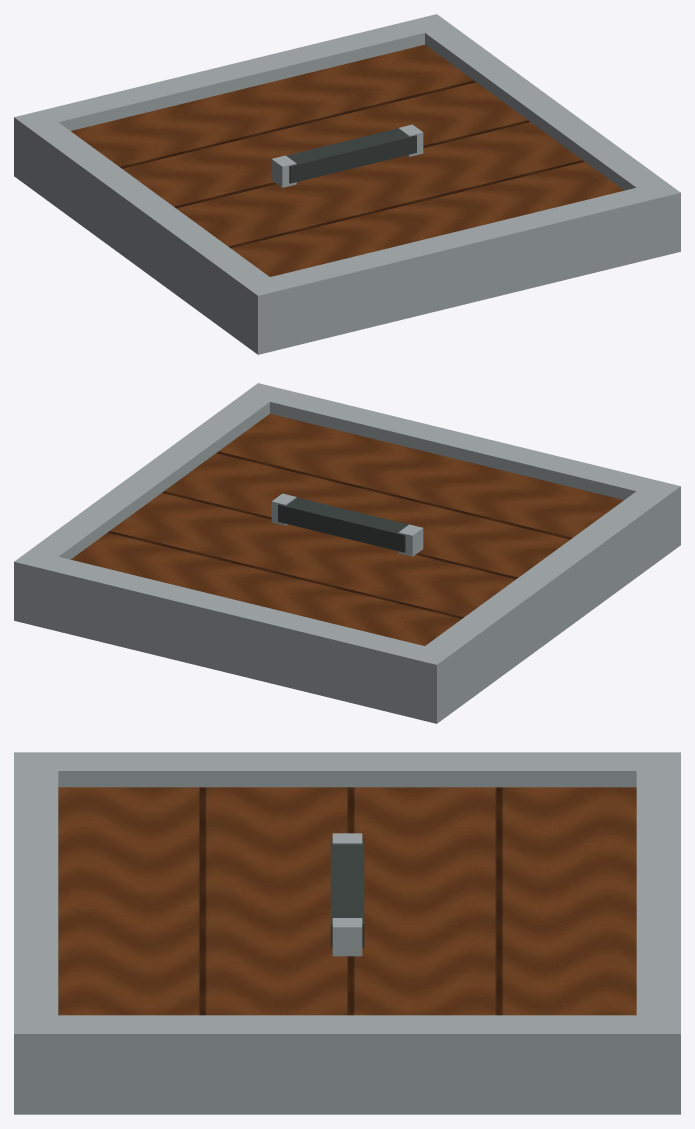
The model's file is rural-scavenging-settlements-cellar-trapdoor-b43ba5ef__26554.glb.
3 views of the same model, one above another, from view 1: azimuth 30°, elevation 25°; view 2: azimuth 150°, elevation 25°; view 3: azimuth 270°, elevation 25° (orthographic). The views are drawn at different scales.
Visible parts, largest first — view 1: cellar-trapdoor, hatch-lid/wood, hatch-lid/dark, hatch-lid/metal; view 2: cellar-trapdoor, hatch-lid/wood, hatch-lid/dark, hatch-lid/metal; view 3: hatch-lid/wood, cellar-trapdoor, hatch-lid/dark, hatch-lid/metal.
Boxes of the visible parts, x1,y1,x2,y2 form: cellar-trapdoor: (14, 14, 680, 354); hatch-lid/wood: (71, 44, 623, 276); hatch-lid/dark: (286, 128, 416, 183); hatch-lid/metal: (271, 124, 423, 187); cellar-trapdoor: (14, 383, 680, 723); hatch-lid/wood: (71, 413, 623, 645); hatch-lid/dark: (278, 497, 408, 552); hatch-lid/metal: (271, 493, 423, 556); hatch-lid/wood: (58, 787, 636, 1015); cellar-trapdoor: (14, 752, 680, 1114); hatch-lid/dark: (330, 839, 364, 947); hatch-lid/metal: (332, 833, 362, 956).
Size of the model in its own units: 0.9 by 0.139 by 0.9.
3 materials, 1 textured.
